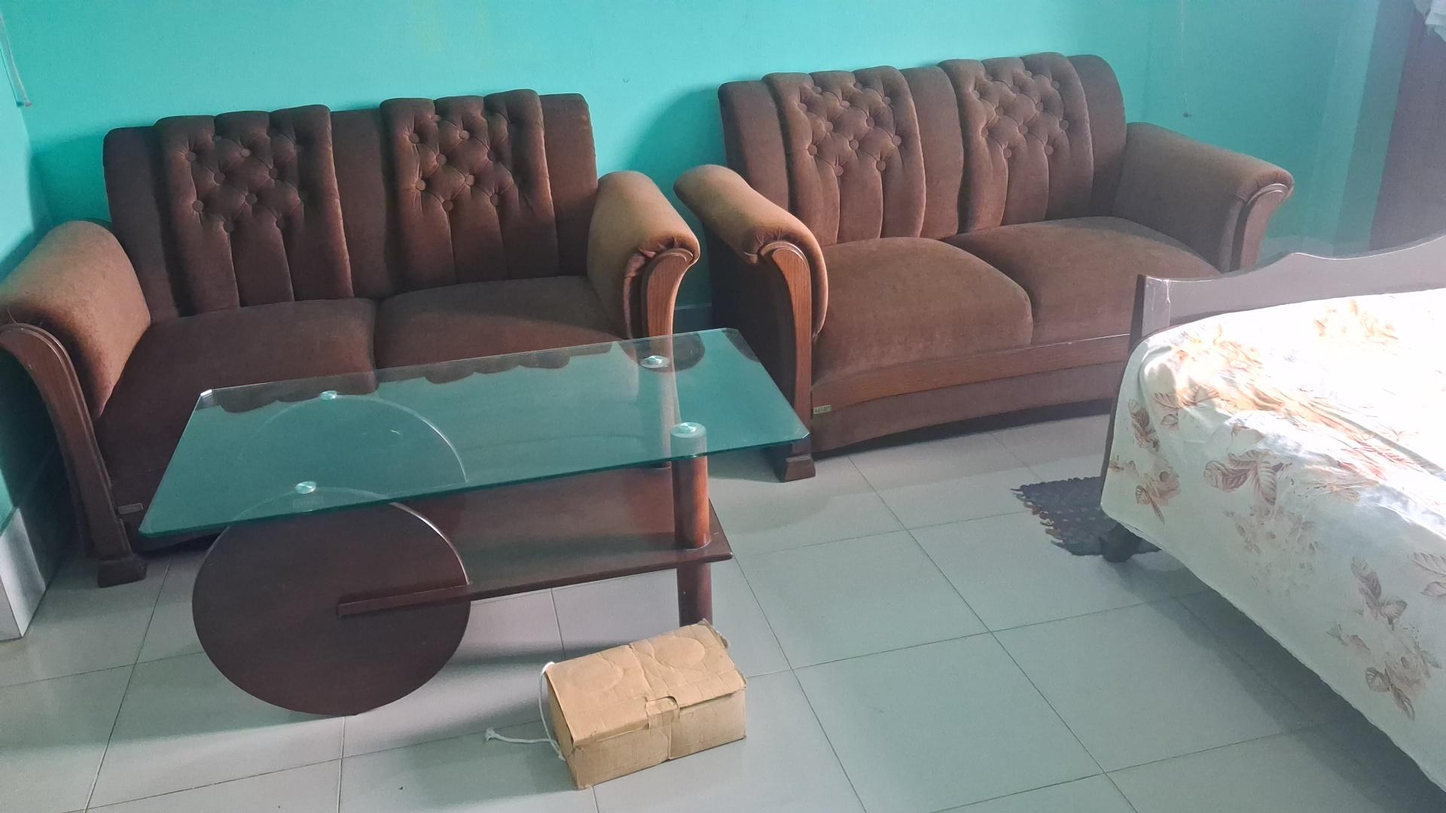Box: (536, 622, 755, 796)
Table: (134, 325, 818, 720)
